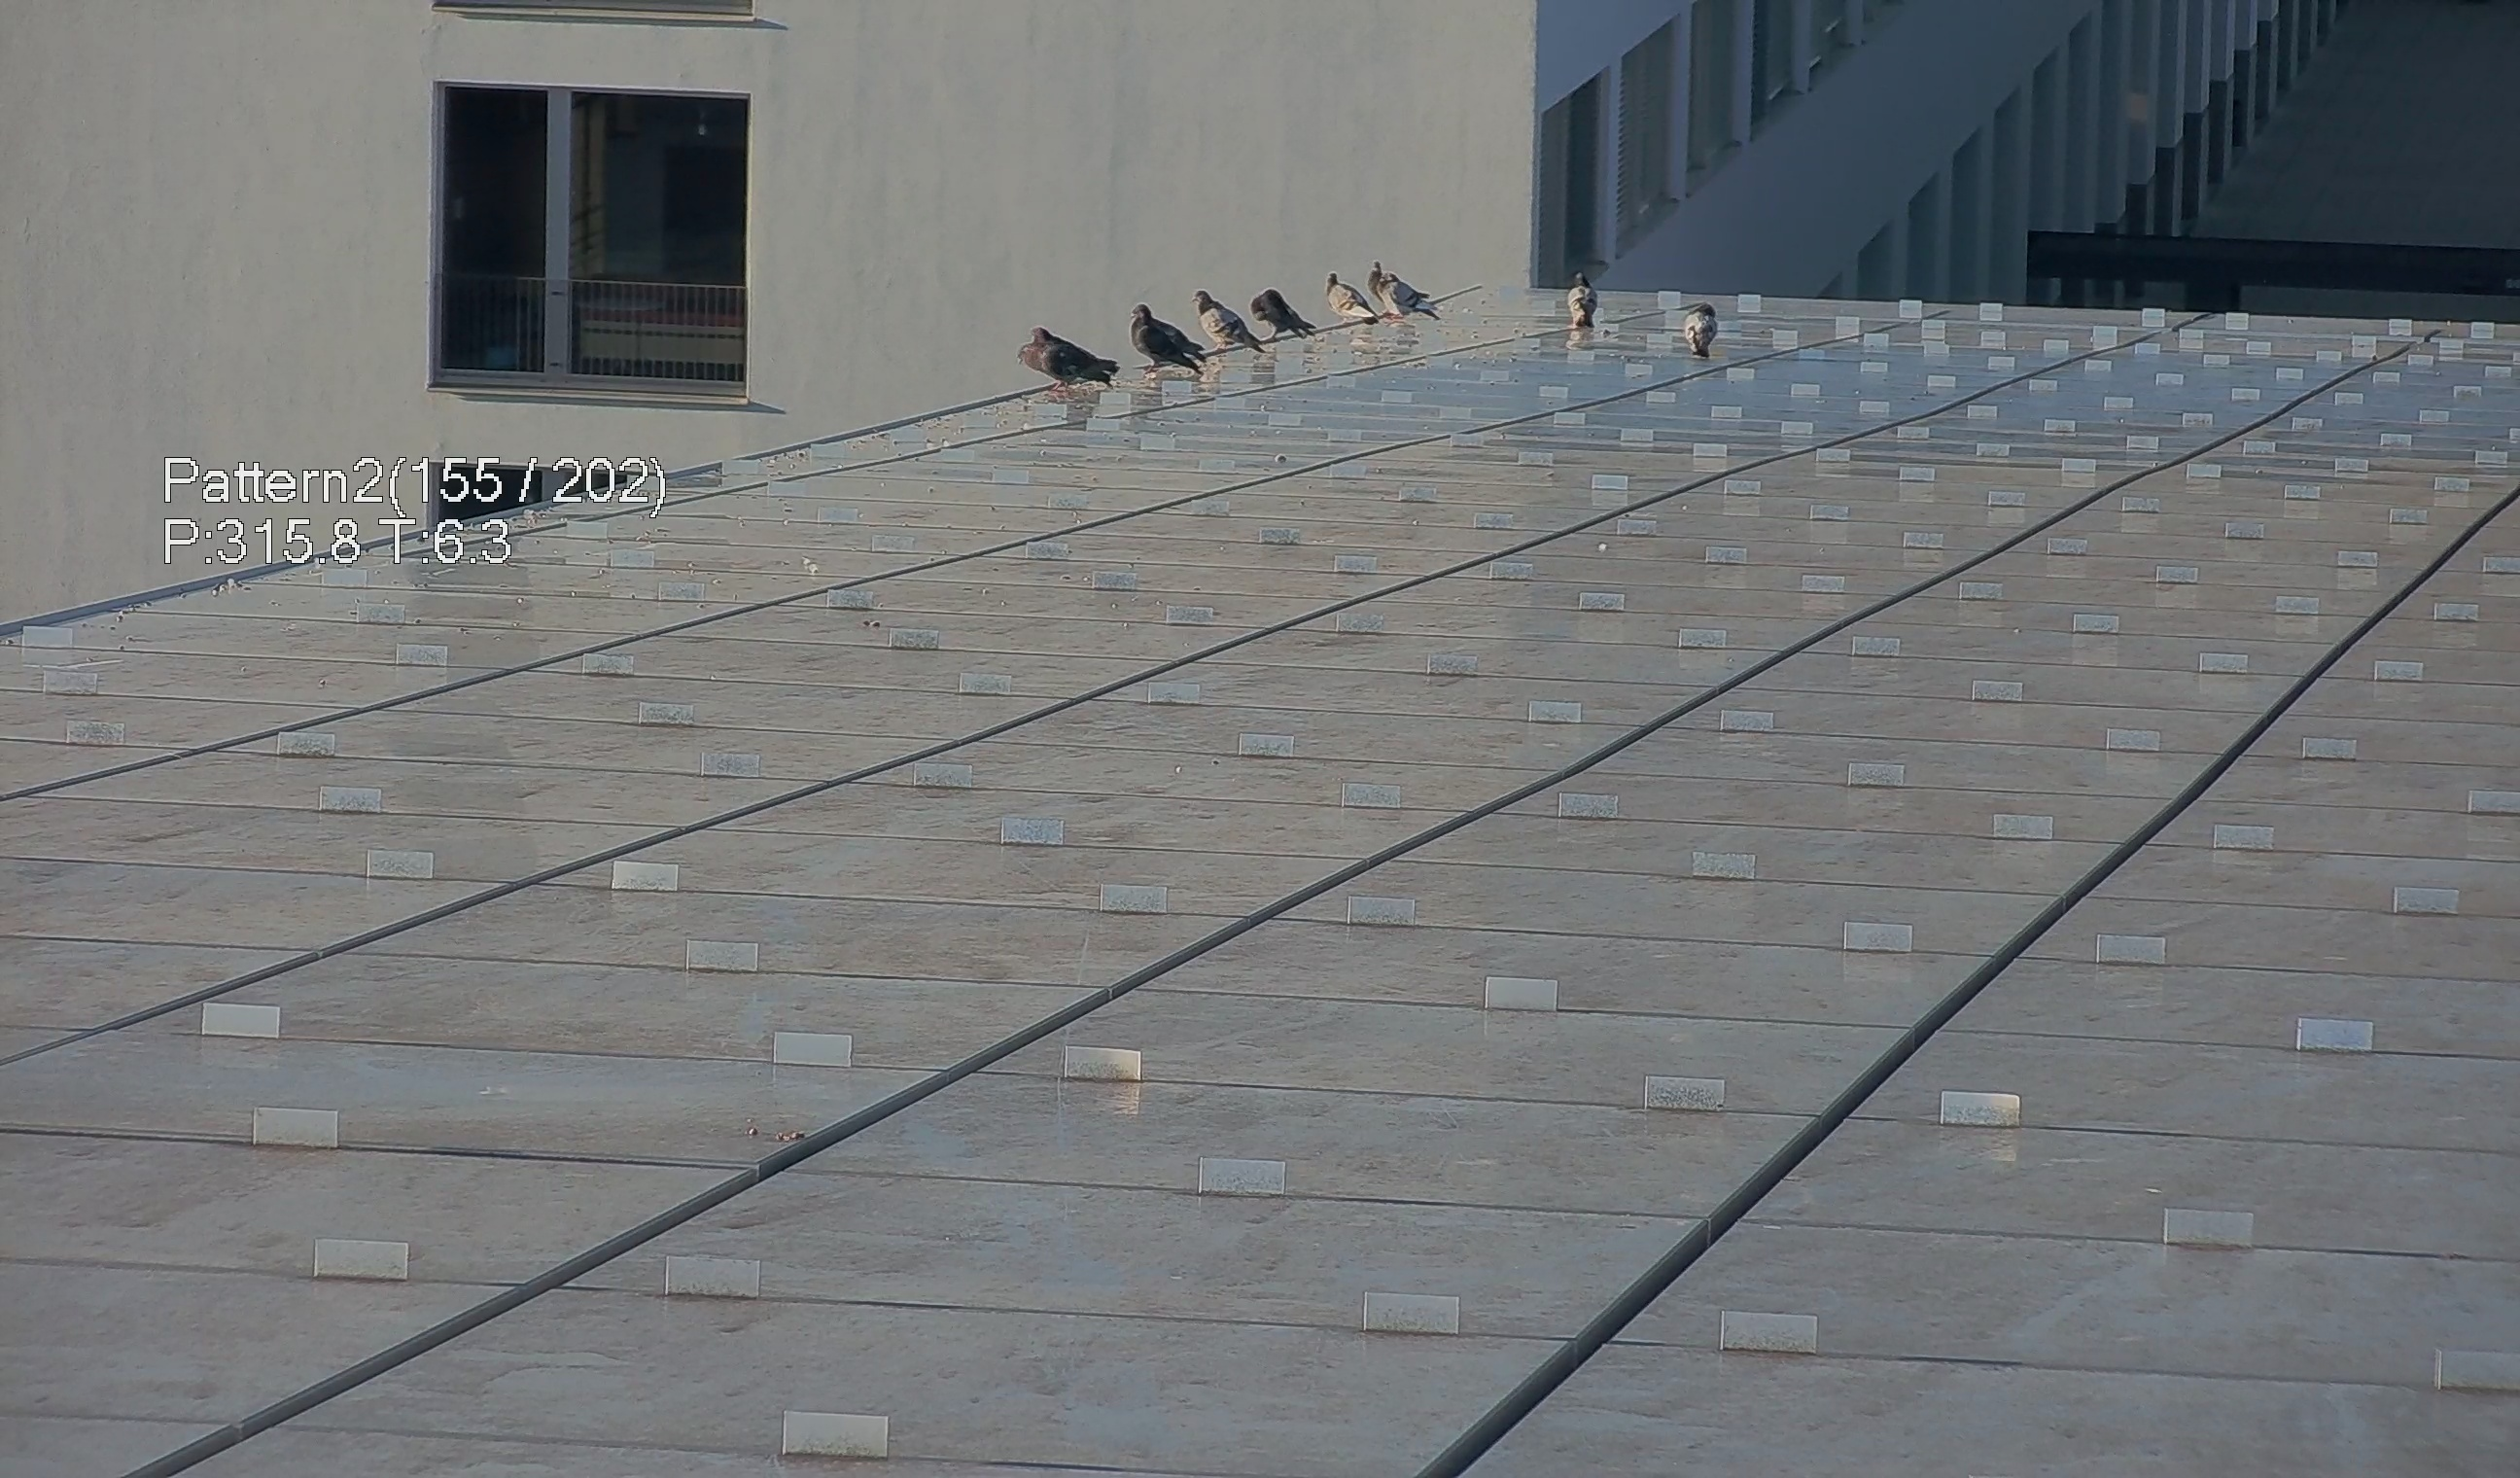Pigeon: (1117, 294, 1224, 382), (1009, 308, 1117, 391), (1359, 252, 1449, 327), (1184, 285, 1266, 357), (1249, 285, 1336, 348), (1321, 262, 1391, 336), (1674, 299, 1725, 362), (1560, 264, 1604, 336)
